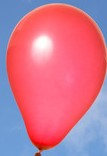Balloon: (6, 3, 107, 150)
